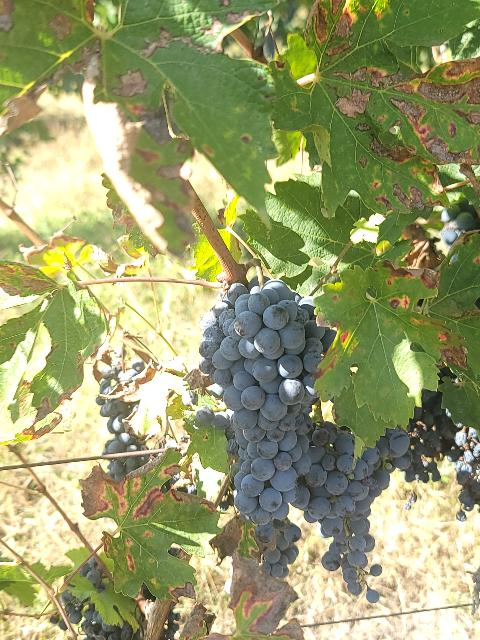grapes: (199, 279, 336, 449), (321, 429, 411, 602), (235, 410, 354, 540), (96, 349, 146, 454), (108, 455, 150, 481)
